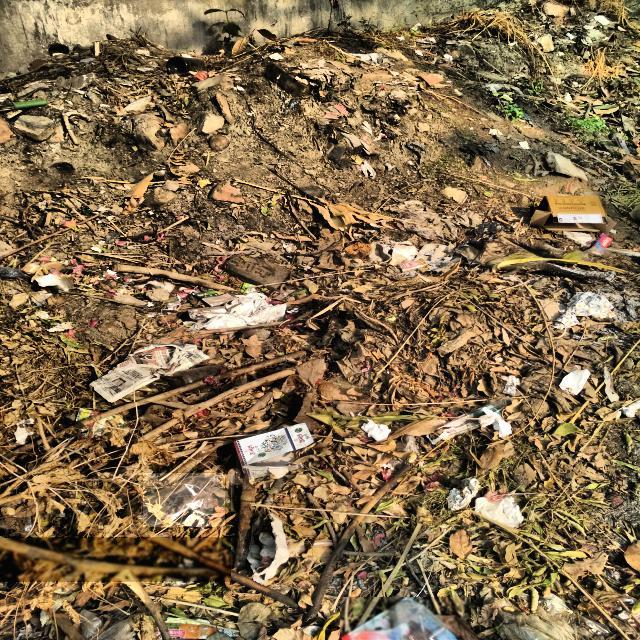anorganik: (340, 597, 470, 638), (144, 475, 225, 527)
organik: (0, 346, 333, 547), (0, 539, 231, 581), (94, 340, 218, 402), (236, 427, 314, 489), (531, 196, 606, 236)
